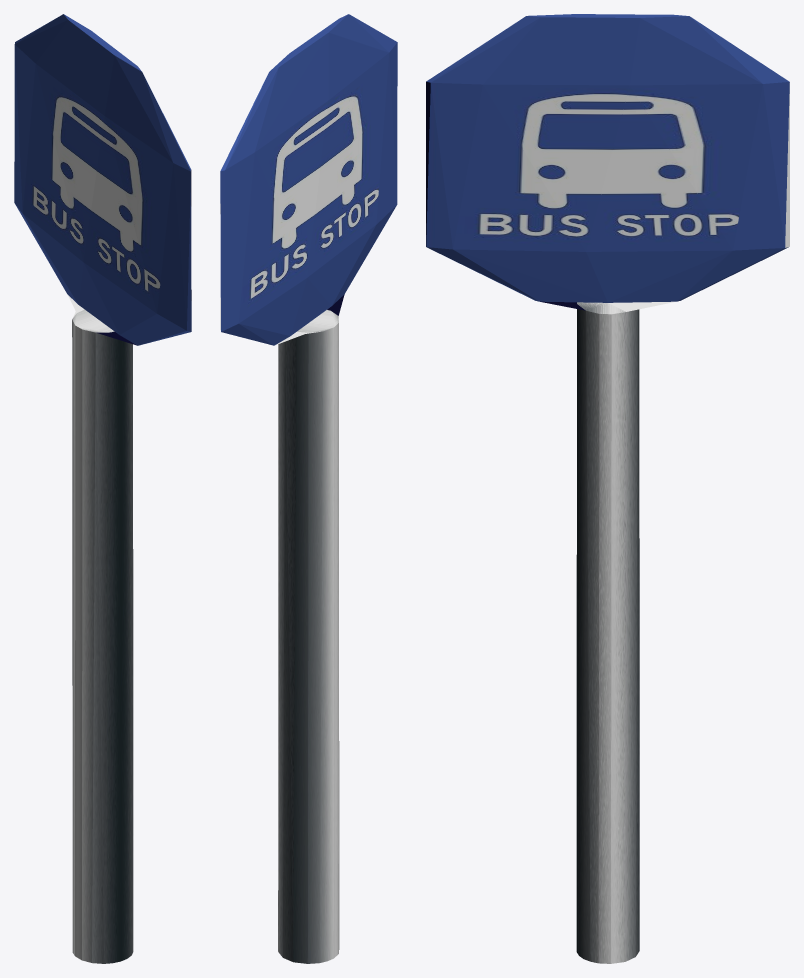
Rendered from bus_stop_sign.fbx.
3 views of the same model, side by side, from view 1: azimuth 30°, elevation 25°; view 2: azimuth 150°, elevation 25°; view 3: azimuth 270°, elevation 25° (orthographic). The views are drawn at different scales.
Visible parts, largest first — view 1: Cylinder; view 2: Cylinder; view 3: Cylinder.
Boxes of the visible parts, x1,y1,x2,y2 form: Cylinder: (14,14,191,963); Cylinder: (220,14,397,963); Cylinder: (426,14,789,963).
Bounding box in the file's own units: 39.75 × 652 × 230.
